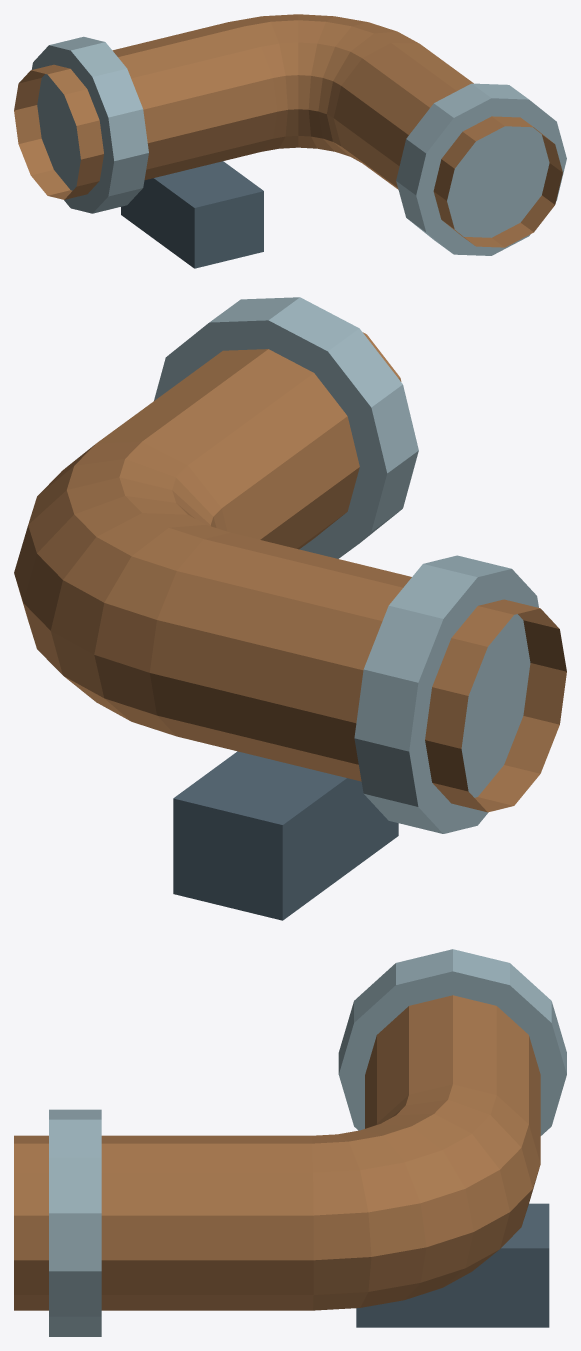
File: pipe_elbow.glb
The picture shows the model from 3 angles, top to bottom: view 1: azimuth 30°, elevation 25°; view 2: azimuth 150°, elevation 25°; view 3: azimuth 270°, elevation 25°; orthographic projection. The views are drawn at different scales.
Parts seen in each view (by area): view 1: Elbow, Coupling.001, Coupling, Mount; view 2: Elbow, Coupling, Mount, Coupling.001; view 3: Elbow, Coupling, Coupling.001, Mount.
Part boxes in pixels (<box>): Elbow: <box>14,14,562,247</box>; Coupling.001: <box>396,83,566,255</box>; Coupling: <box>31,36,148,213</box>; Mount: <box>121,161,263,268</box>; Elbow: <box>14,332,566,812</box>; Coupling: <box>354,555,538,833</box>; Mount: <box>173,751,398,920</box>; Coupling.001: <box>154,297,418,558</box>; Elbow: <box>14,995,540,1310</box>; Coupling: <box>338,949,566,1135</box>; Coupling.001: <box>49,1109,101,1336</box>; Mount: <box>356,1203,549,1327</box>.
Bounding box in the file's own units: 1.26 × 0.7 × 1.26.
